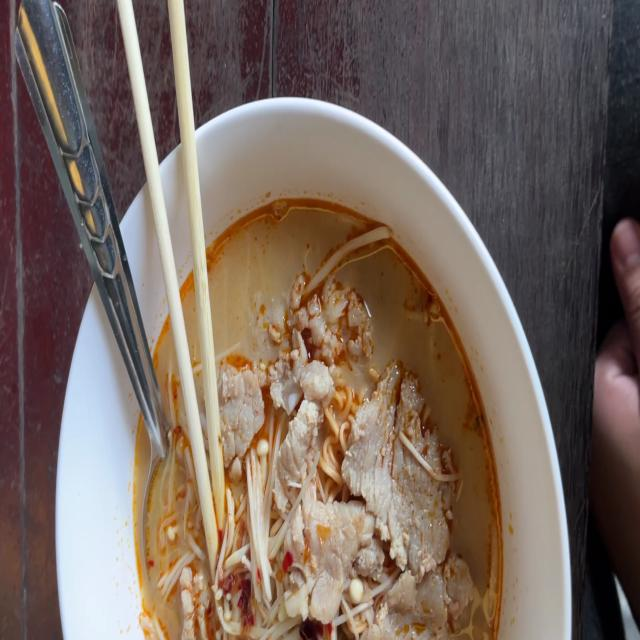noodle: (128, 197, 510, 640)
